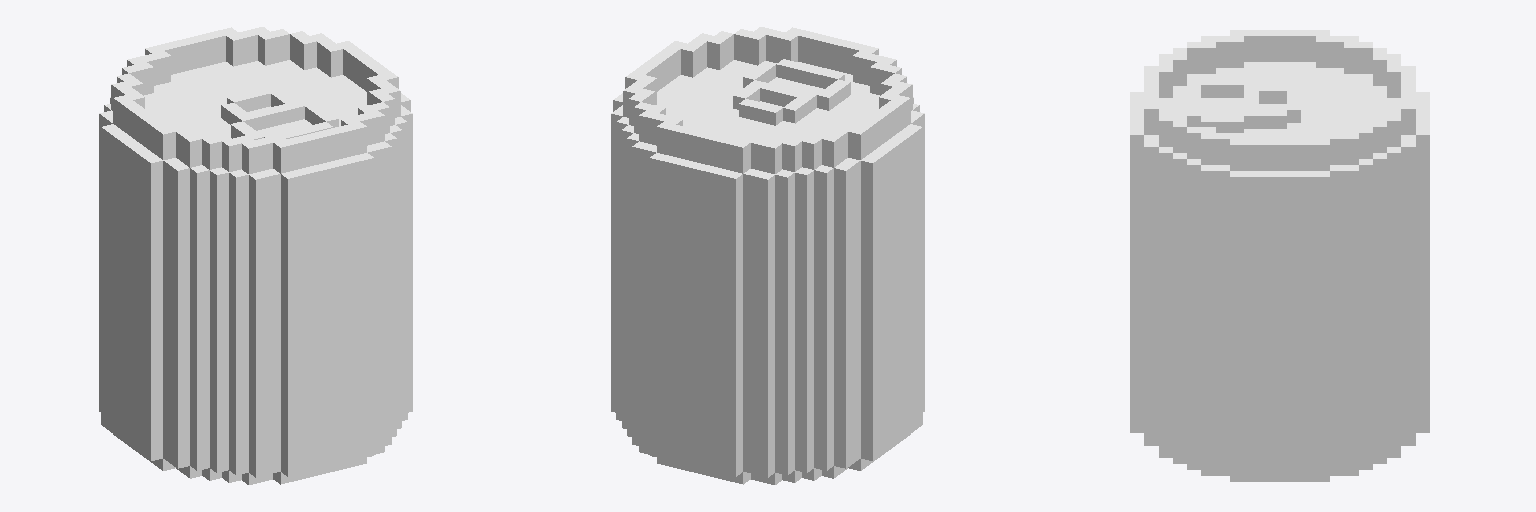
Rendered from sprite.obj.
The picture shows the model from 3 angles: view 1: azimuth 30°, elevation 25°; view 2: azimuth 150°, elevation 25°; view 3: azimuth 270°, elevation 25°; orthographic projection.
Bounding box in the file's own units: 21 × 26 × 21.